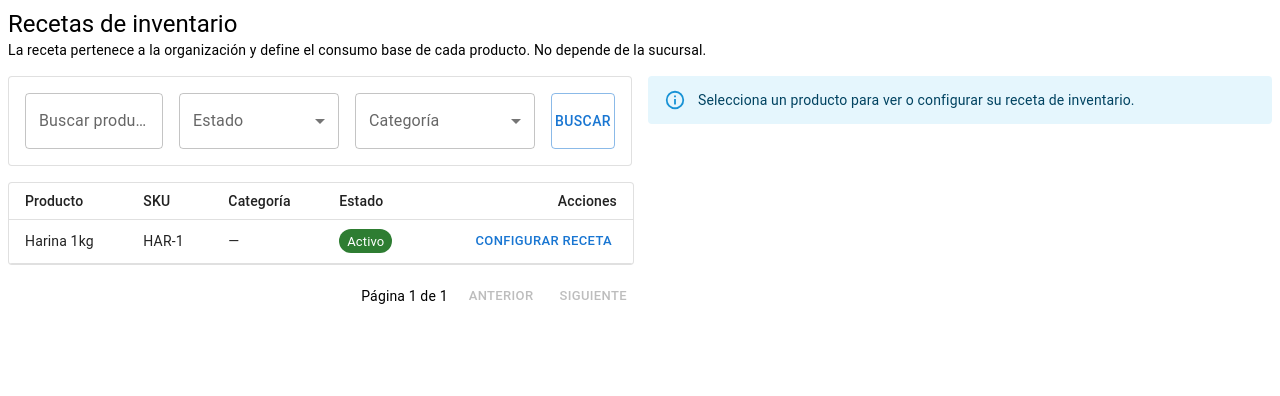
Test: RecipesPage › lists products and shows the absent-recipe empty state
This screenshot has width=1280, height=396.
Expected: the text "Harina 1kg" is shown, [9, 220, 127, 263]
Click the button "Configurar receta" at (544, 241), box [470, 226, 617, 257]
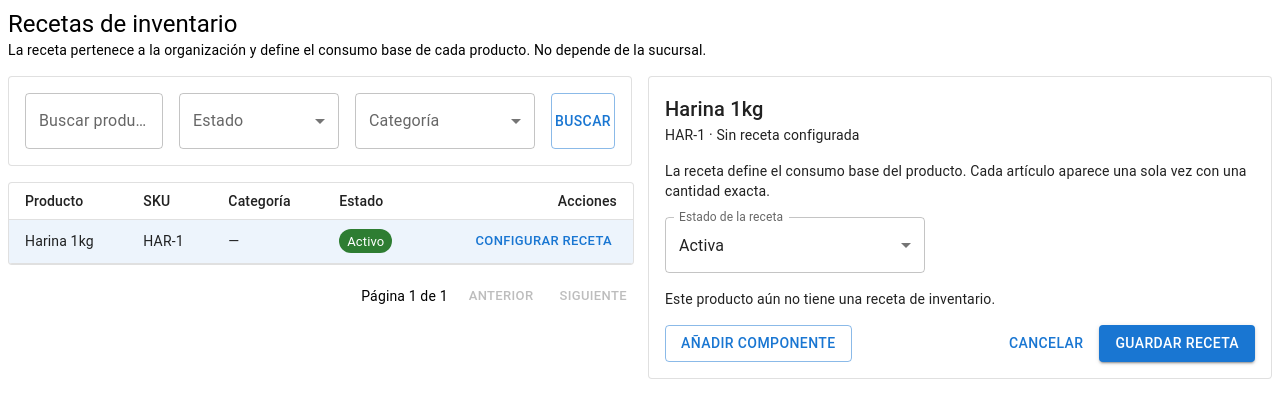
Expected: the text "Este producto aún no tiene una receta de inventario." is shown, [665, 291, 995, 307]
Expected: the button "Guardar receta" is shown, [1099, 325, 1255, 362]
